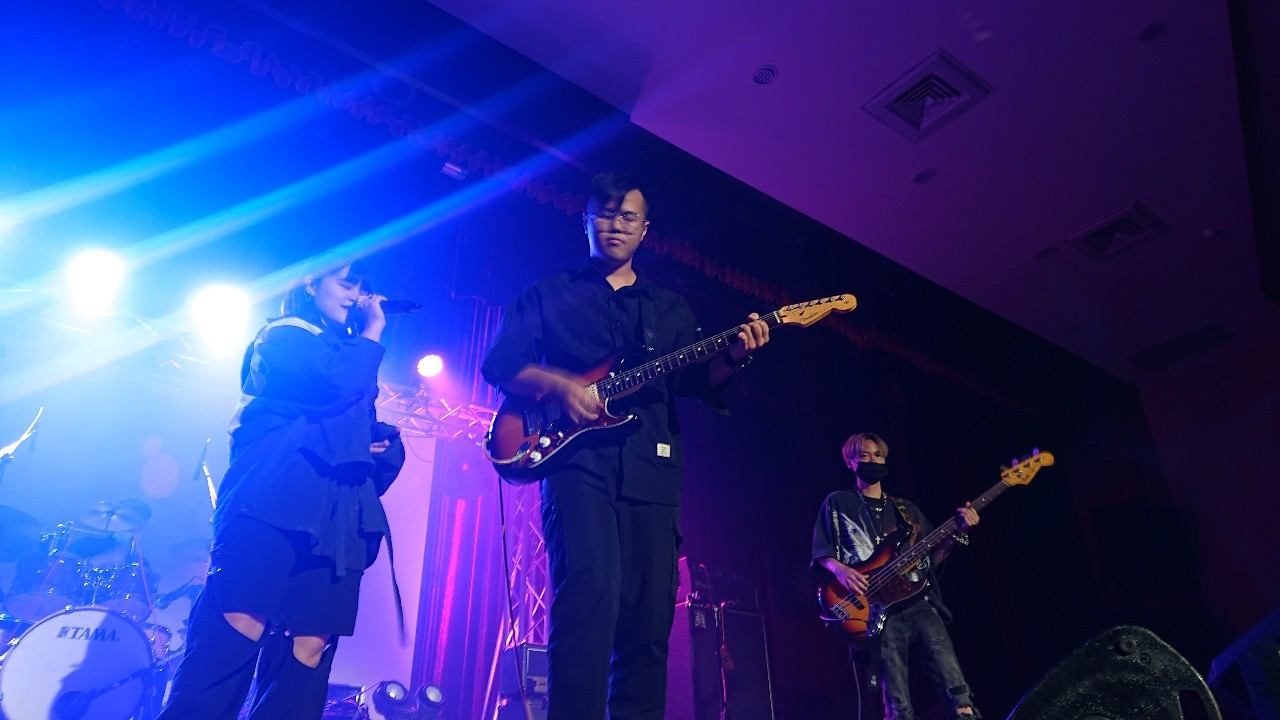people: (542, 178, 678, 720), (238, 258, 391, 711), (831, 433, 973, 718)
